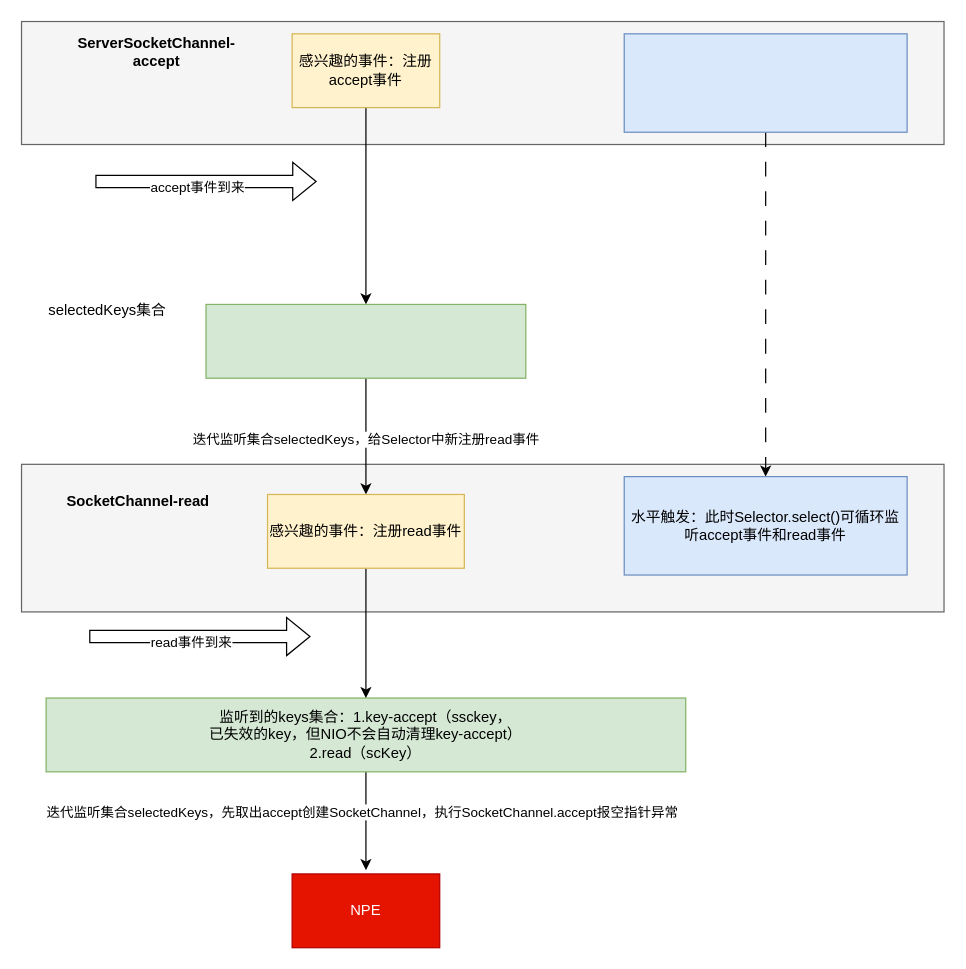
This 966x969 diagram has some shape labels left out. The shapes that lost their labels are listed below. From the top down, each one's centre as x and y in pixels, then its label:
At point (765, 82): "水平触发：此时Selector.select()可循环监听accept事件".
At point (365, 340): "监听到的keys集合：key-accept（ssckey）".
